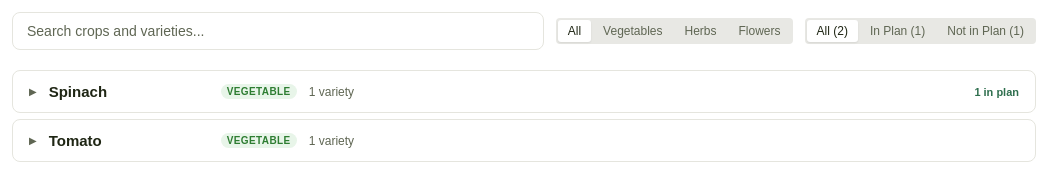
Test: LibraryView › status filter › filters to show only in-plan crop groups
Click the button "In Plan (1)" at (898, 31), box x1=860 y1=20 x2=935 y2=42
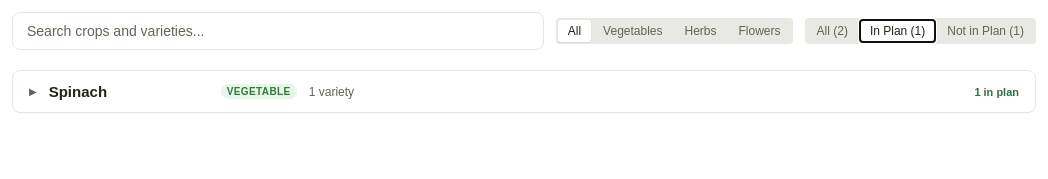
Expected: the text "Spinach" is shown, x1=49 y1=83 x2=107 y2=100
Now the button "Tomato" is gone
